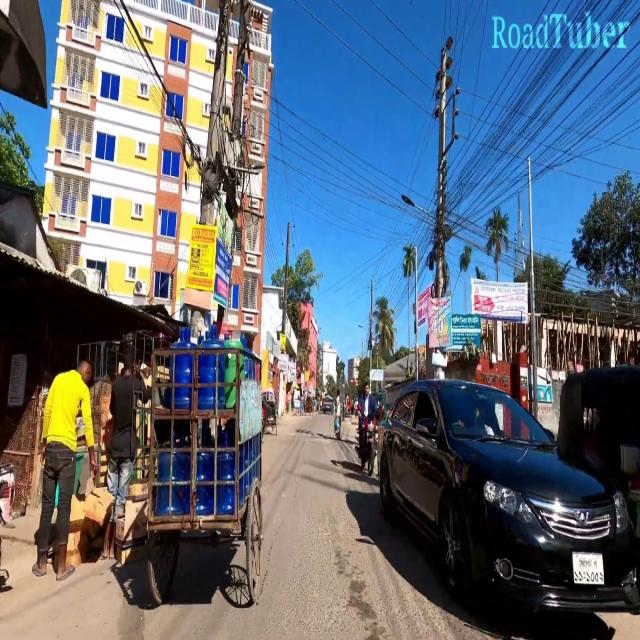black: (371, 363, 640, 629)
